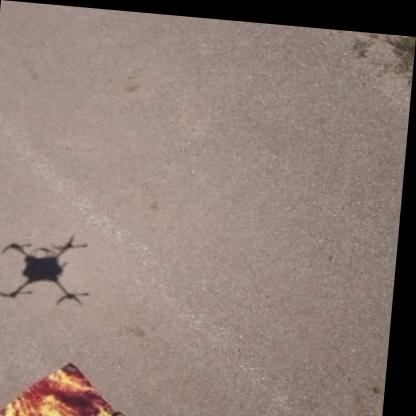fire-poster: (0, 356, 137, 416)
